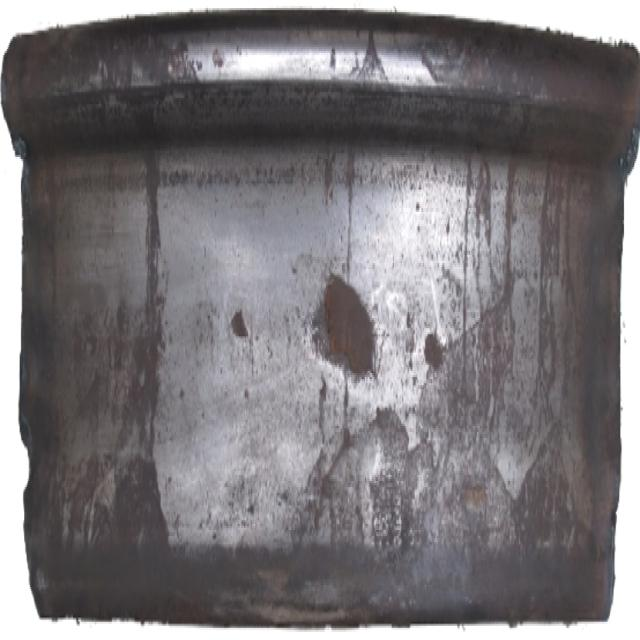Peeling: (312, 273, 379, 384), (425, 327, 447, 374), (229, 306, 251, 345)
